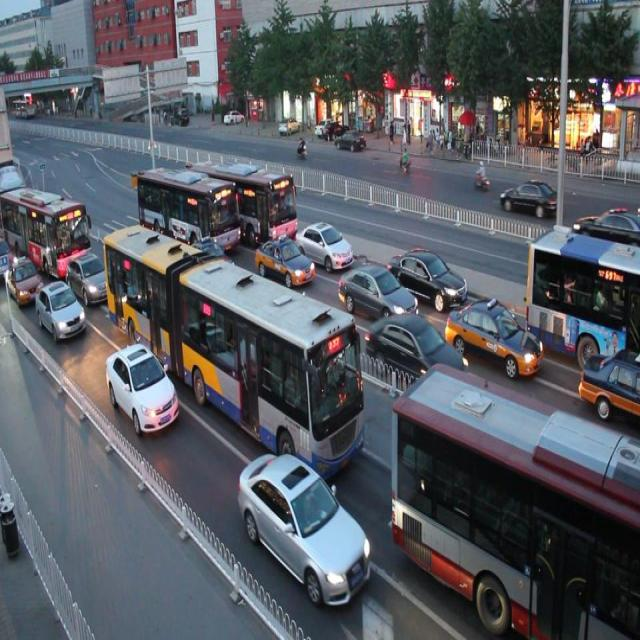car: (237, 448, 369, 606), (446, 294, 544, 382), (366, 310, 467, 392), (104, 342, 179, 433), (337, 258, 416, 331), (390, 243, 468, 309), (577, 344, 640, 420), (253, 230, 314, 289), (294, 214, 352, 273), (182, 236, 238, 296), (36, 278, 86, 342), (65, 251, 115, 307), (0, 250, 42, 307)
van: (102, 218, 366, 482), (390, 365, 640, 640), (524, 225, 640, 360), (136, 160, 240, 262), (191, 153, 298, 248), (1, 182, 90, 272)
